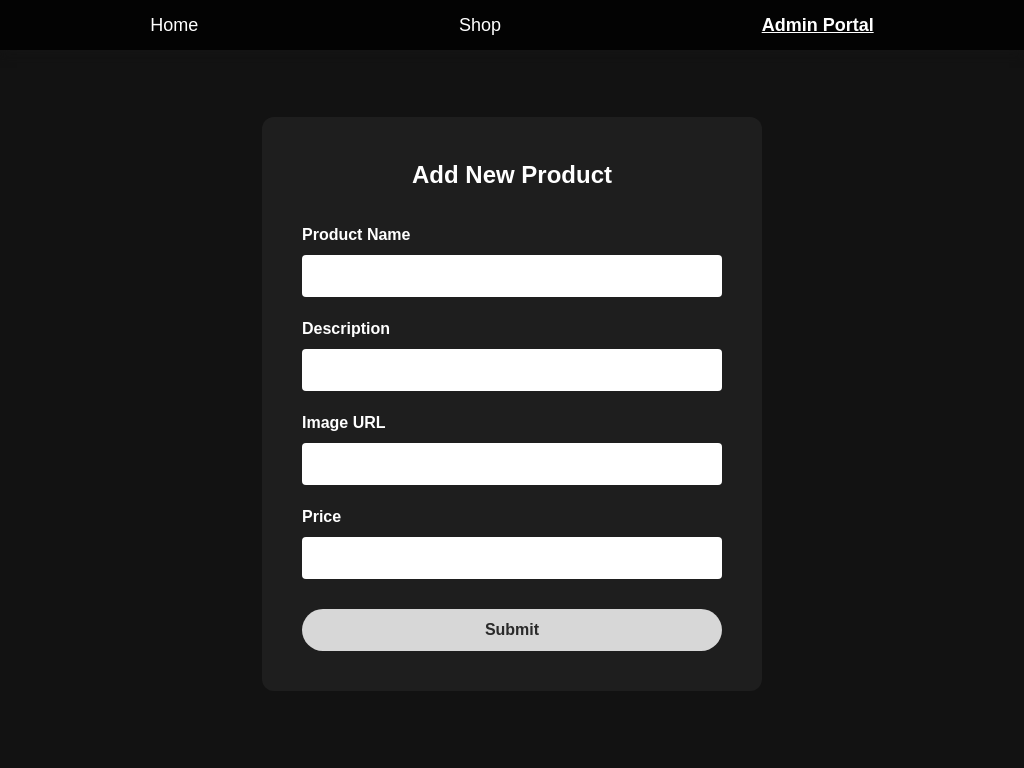
Test: Admin Portal - Add Product › can add a new product
Type "Fresh Peaches" into the field with test id "input-name" at (512, 276), box [302,255,722,297]
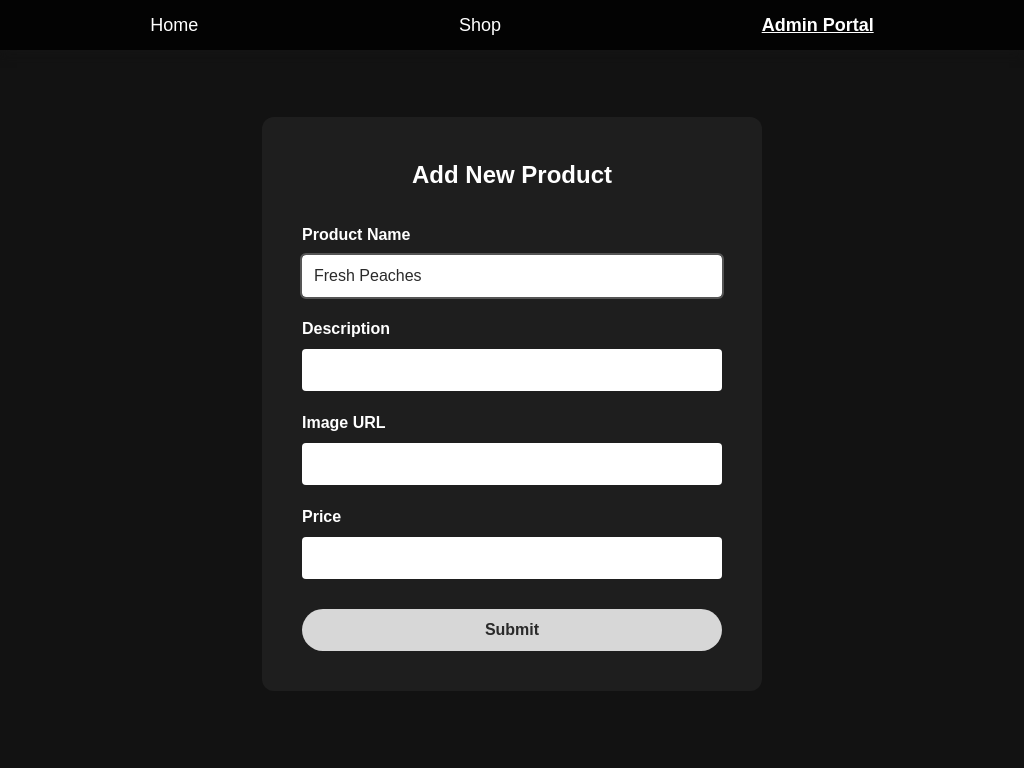
Type "Juicy summer peaches" into the field with test id "input-description" at (512, 370), box [302,349,722,391]
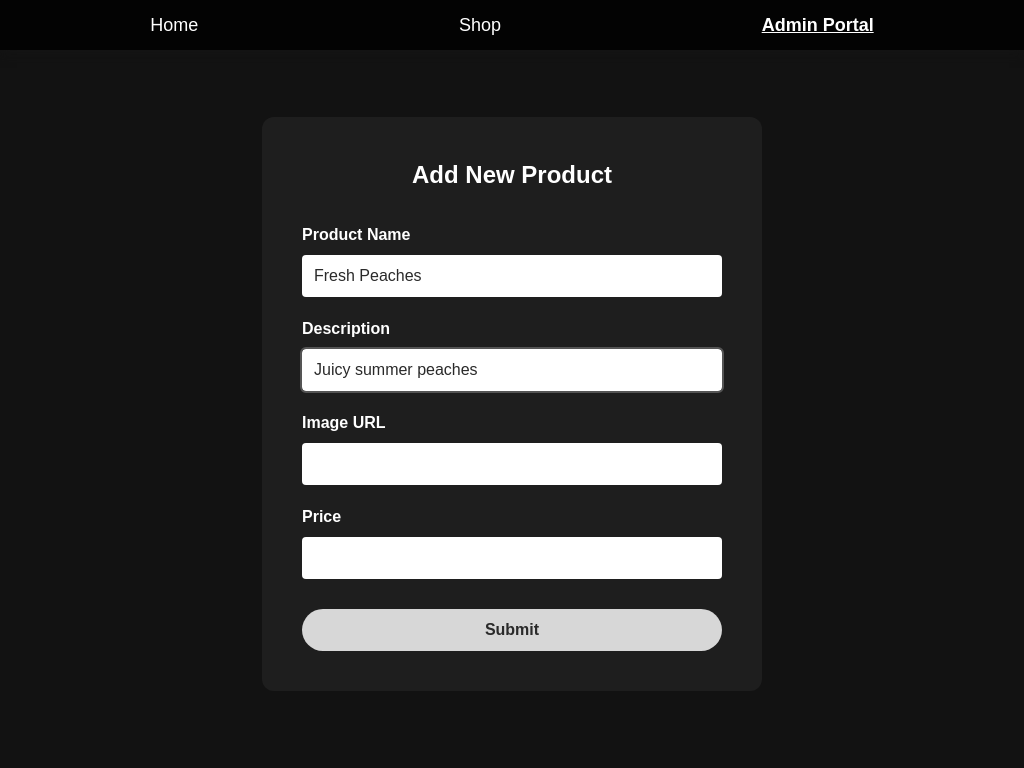
Type "https://example.com/peaches.jpg" into the field with test id "input-image" at (512, 464), box [302,443,722,485]
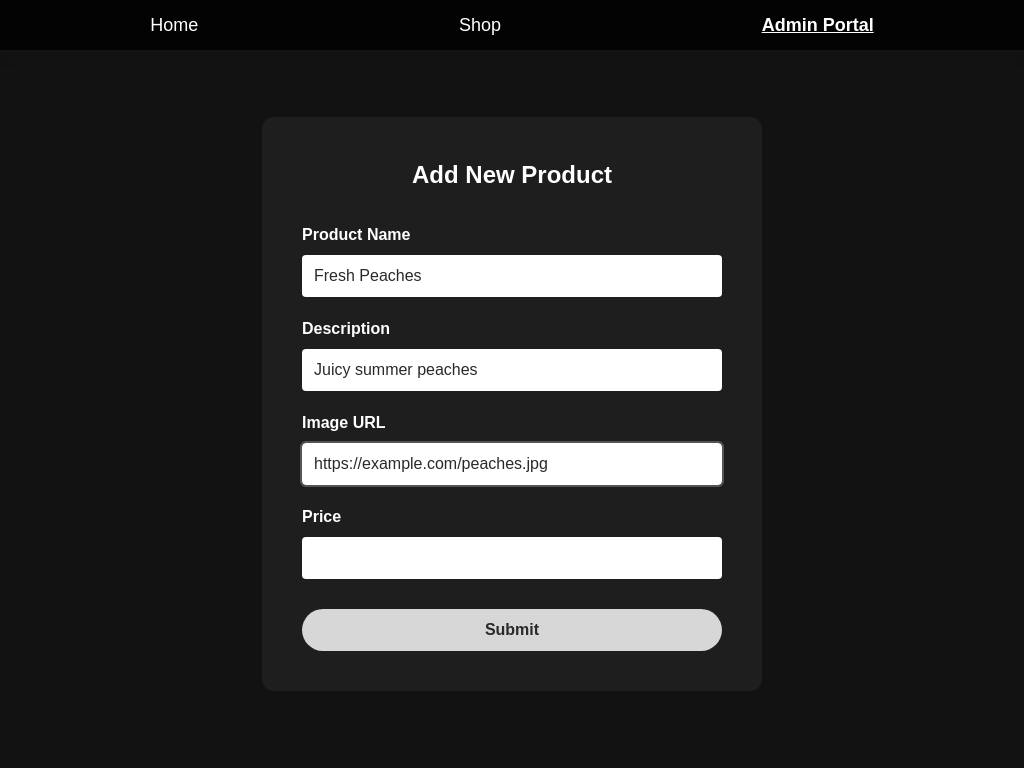
Type "3.99" into the number field with test id "input-price" at (512, 558), box [302,537,722,579]
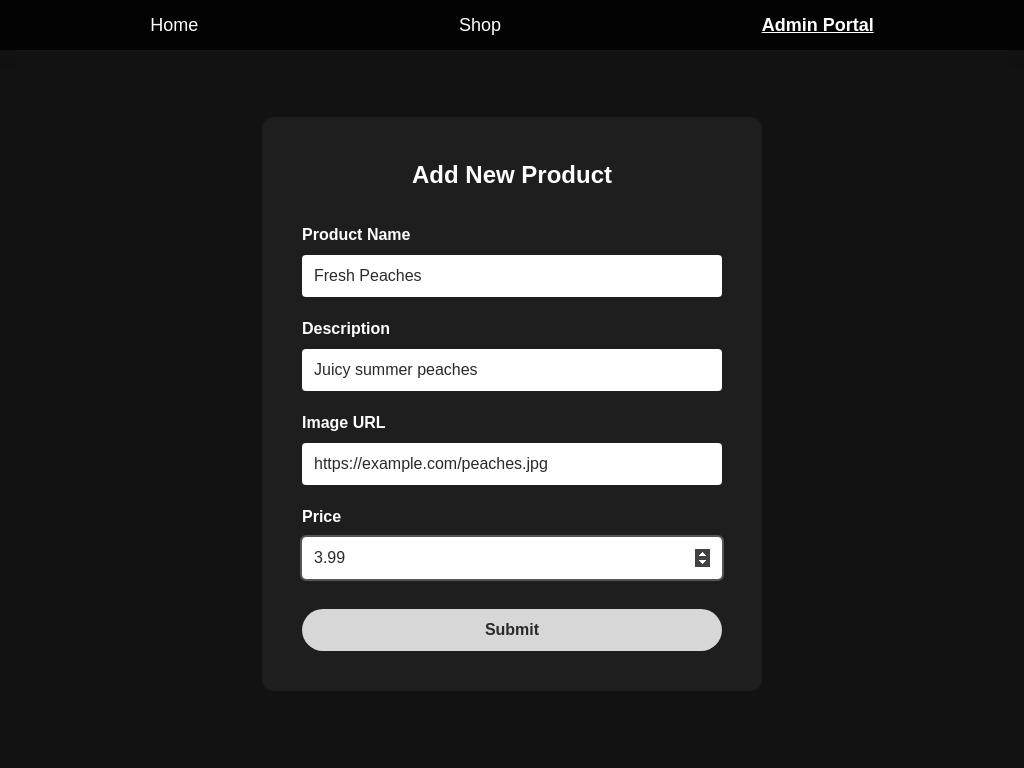
Click the button with test id "submit-btn" at (512, 630), box [302,609,722,651]
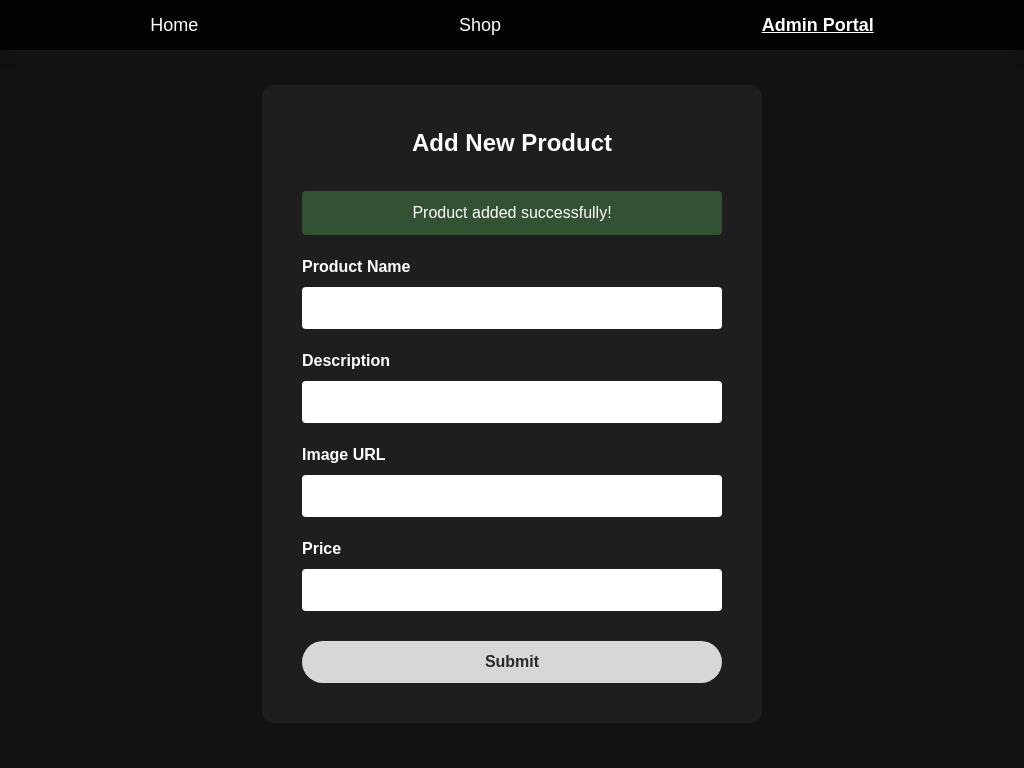
Expected: the text with test id "form-message" reads "Product added successfully!", [412,204,611,221]
